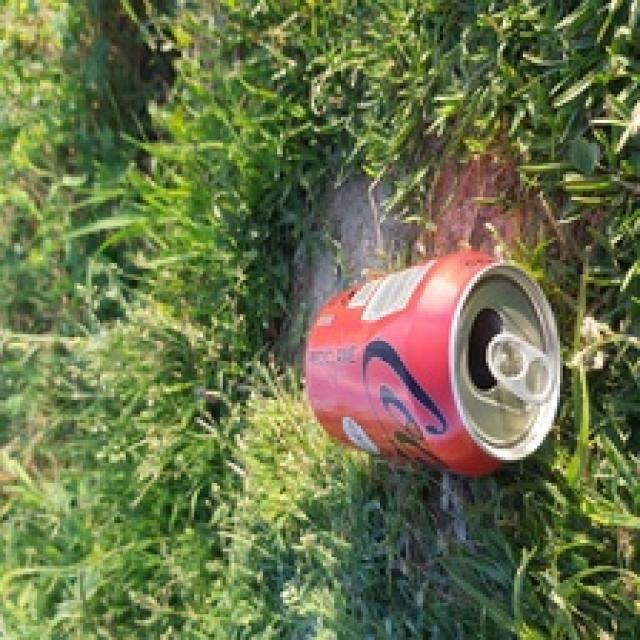recyclable: (304, 251, 560, 480)
